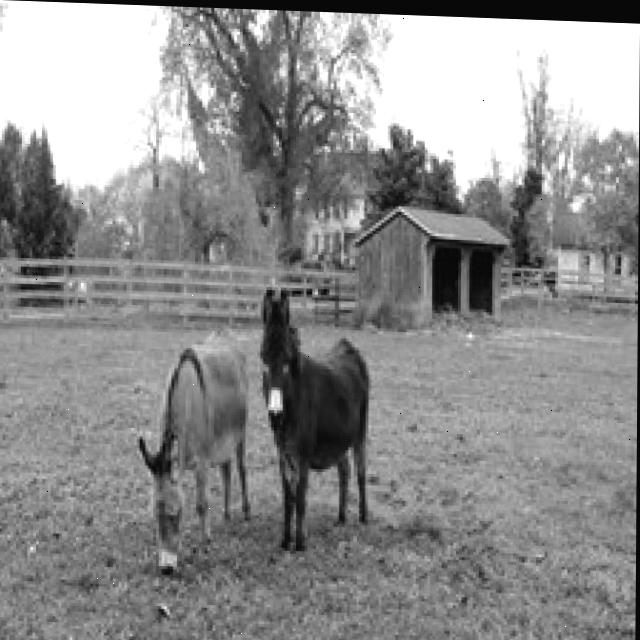Donkey: (256, 284, 369, 554), (136, 322, 252, 578)
